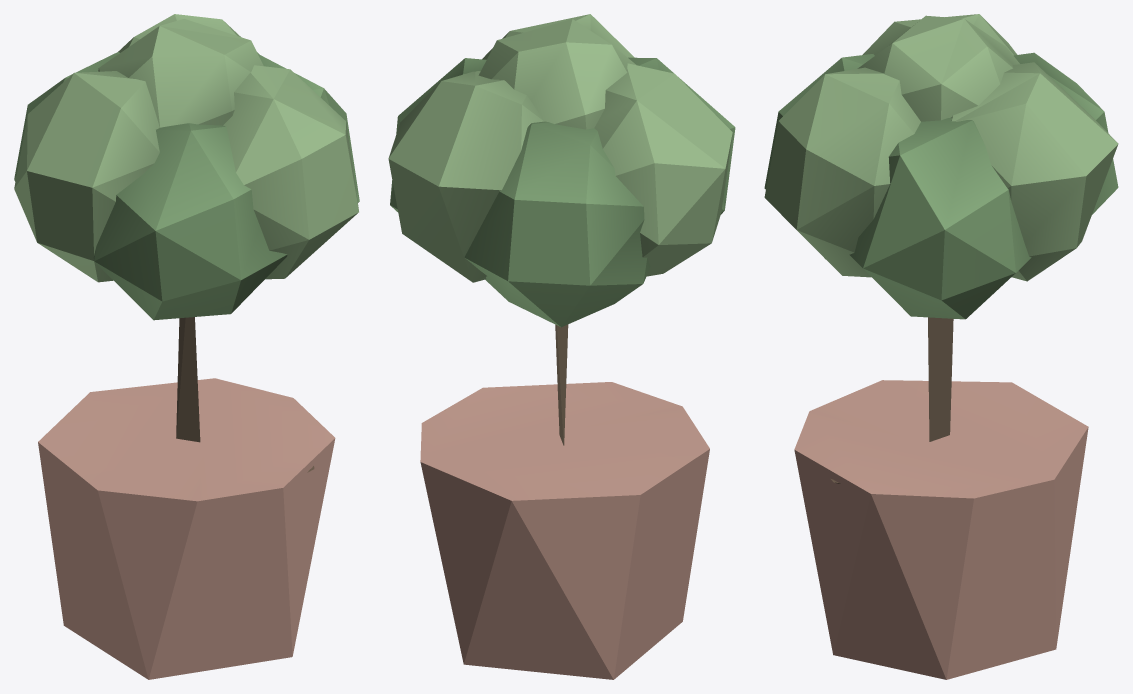
Rendered from furn_plant_pot__terracotta_low.glb.
3 views of the same model, side by side, from view 1: azimuth 30°, elevation 25°; view 2: azimuth 150°, elevation 25°; view 3: azimuth 270°, elevation 25° (orthographic).
Size of the model in its own units: 0.6393 by 1.14 by 0.6038.
